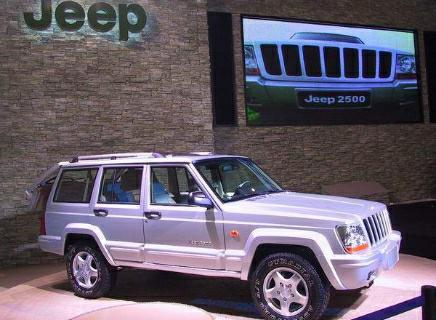Jeep-北京JEEP: (32, 150, 406, 319)
